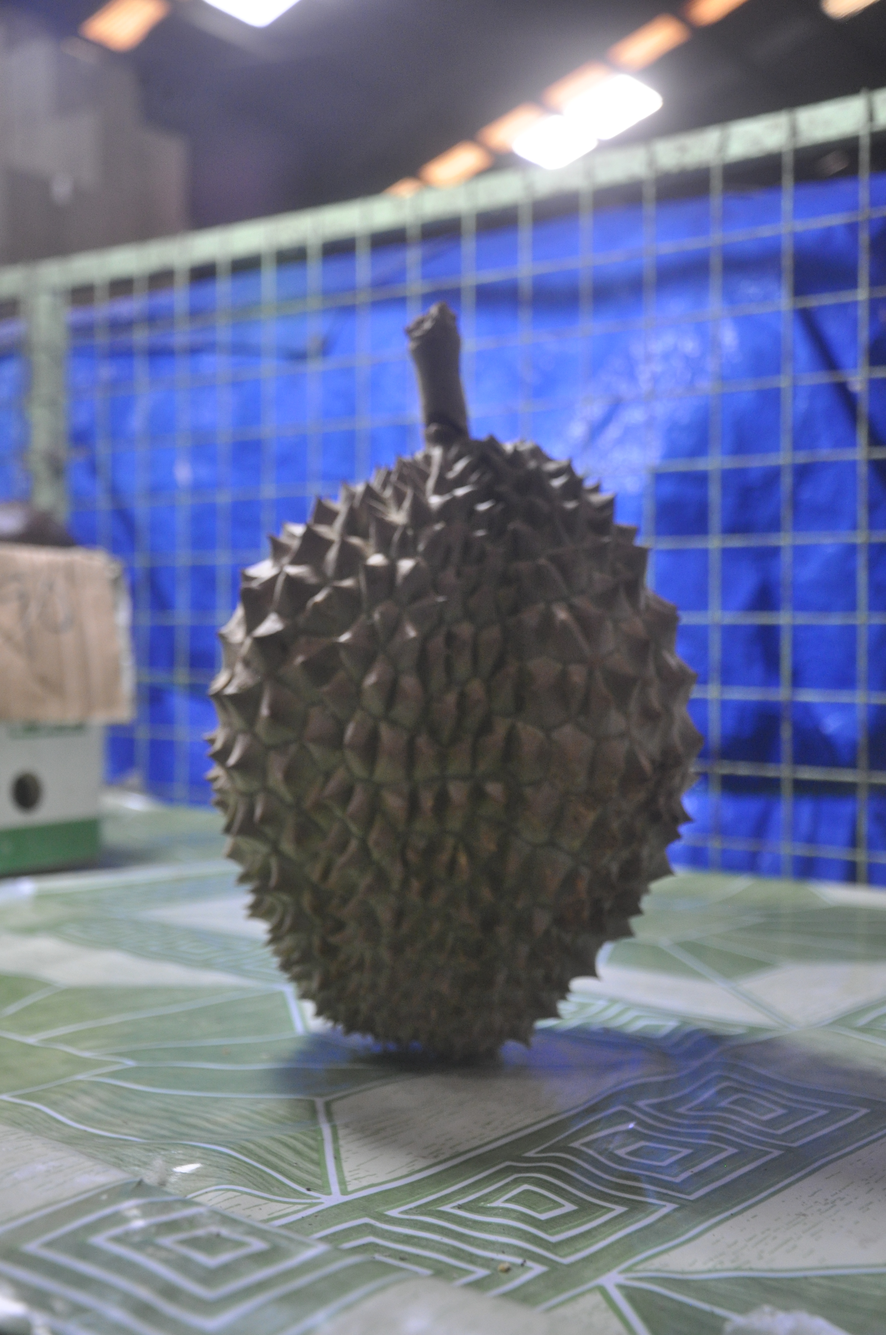mature: (209, 303, 702, 1059)
